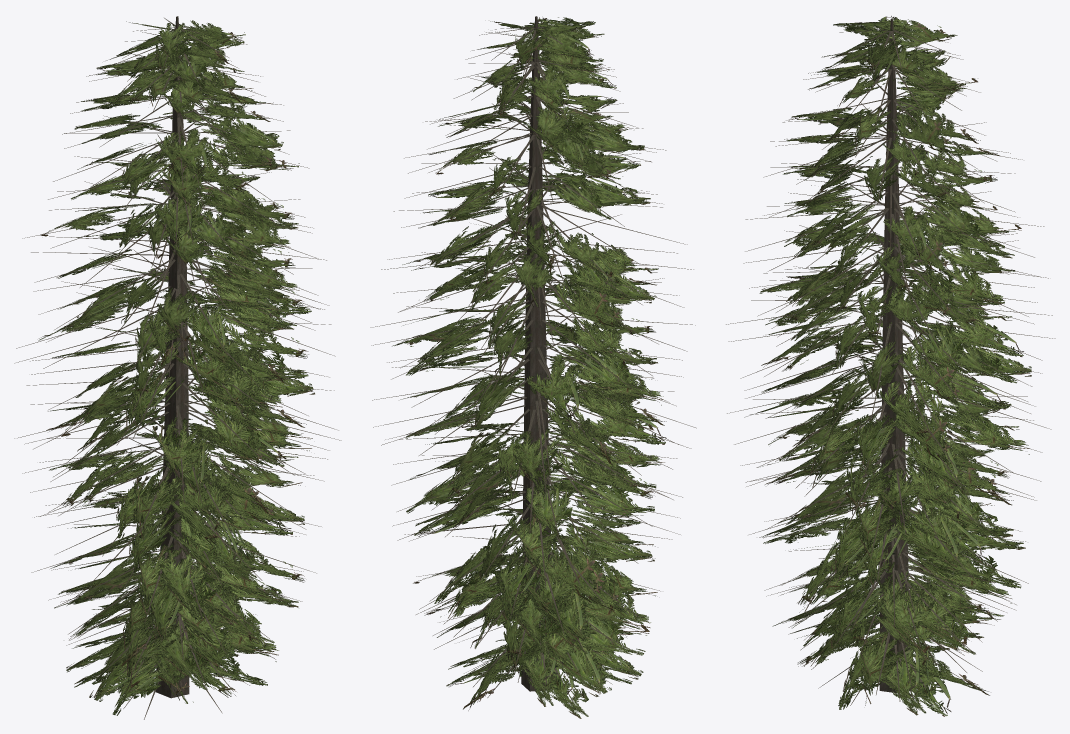
File: conifer_v6_lod1.glb
3 renders of one model, left to right at view 1: azimuth 30°, elevation 25°; view 2: azimuth 150°, elevation 25°; view 3: azimuth 270°, elevation 25°, orthographic.
Visible parts, largest first — view 1: conifer_v6_lod1; view 2: conifer_v6_lod1; view 3: conifer_v6_lod1.
Part boxes in pixels (left/top/right/bottom): conifer_v6_lod1: left=14, top=16, right=341, bottom=719; conifer_v6_lod1: left=370, top=16, right=696, bottom=718; conifer_v6_lod1: left=726, top=16, right=1055, bottom=716.
Bounding box in the file's own units: 8.47 × 18.9 × 8.46.
Materials: 1 (1 with a texture image).
